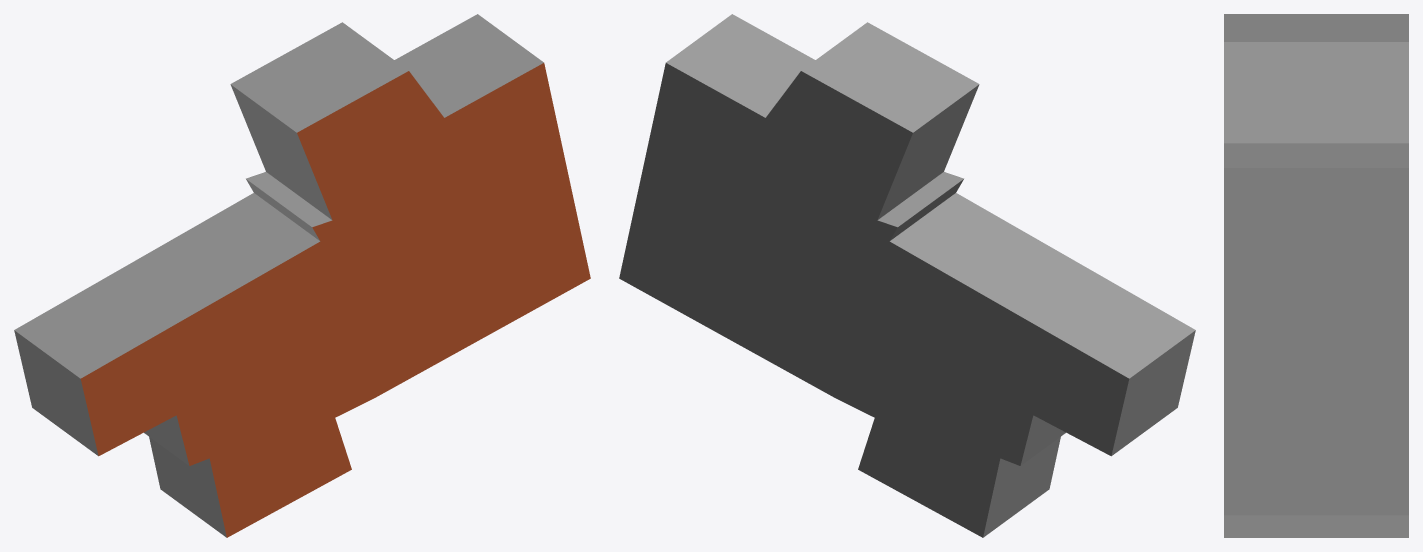
Rendered from construction_0340_assumed_A_Casa_h6m.obj.
3 views of the same model, side by side, from view 1: azimuth 30°, elevation 25°; view 2: azimuth 150°, elevation 25°; view 3: azimuth 270°, elevation 25° (orthographic). The views are drawn at different scales.
Visible parts, largest first — view 1: construction_0340_assumed_A_Casa; view 2: construction_0340_assumed_A_Casa; view 3: construction_0340_assumed_A_Casa.
Part boxes in pixels (x1,y1,x2,y2): construction_0340_assumed_A_Casa: (14, 14, 590, 537); construction_0340_assumed_A_Casa: (619, 14, 1195, 537); construction_0340_assumed_A_Casa: (1224, 14, 1408, 537).
Bounding box in the file's own units: 26.58 × 21.05 × 6.
